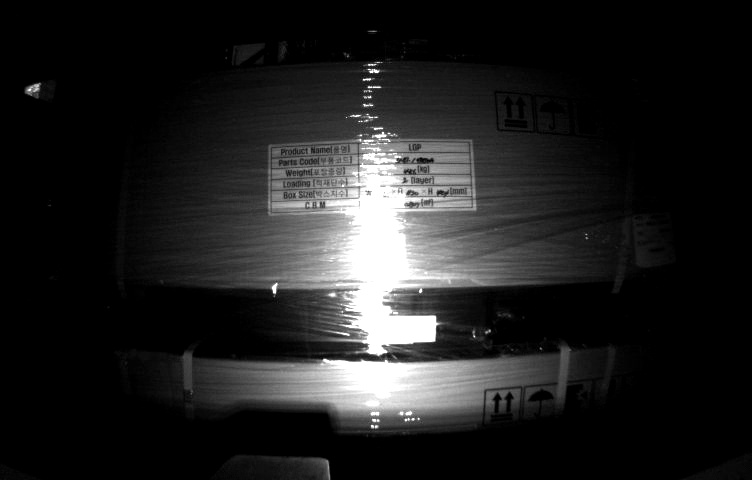True Barcode: (632, 211, 672, 266)
